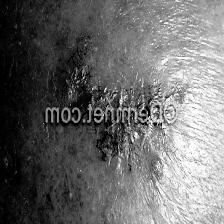Potentially Malignant Skin Tumors: (77, 123, 164, 185), (58, 73, 170, 99)
